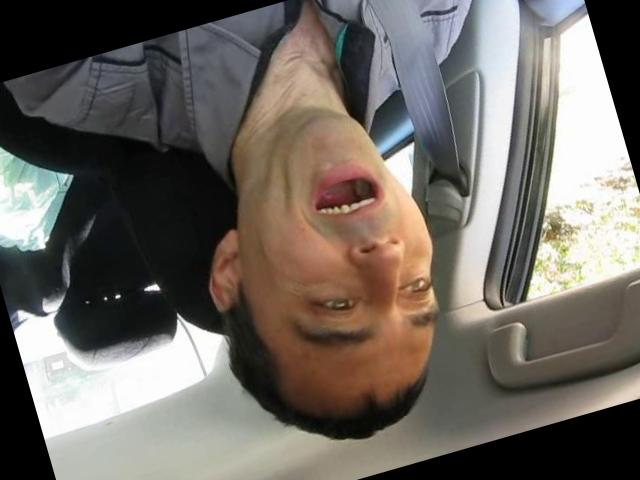eye_open: (304, 282, 364, 326), (389, 268, 447, 310)
face: (220, 87, 464, 382)
mouth_open: (296, 151, 402, 237)
